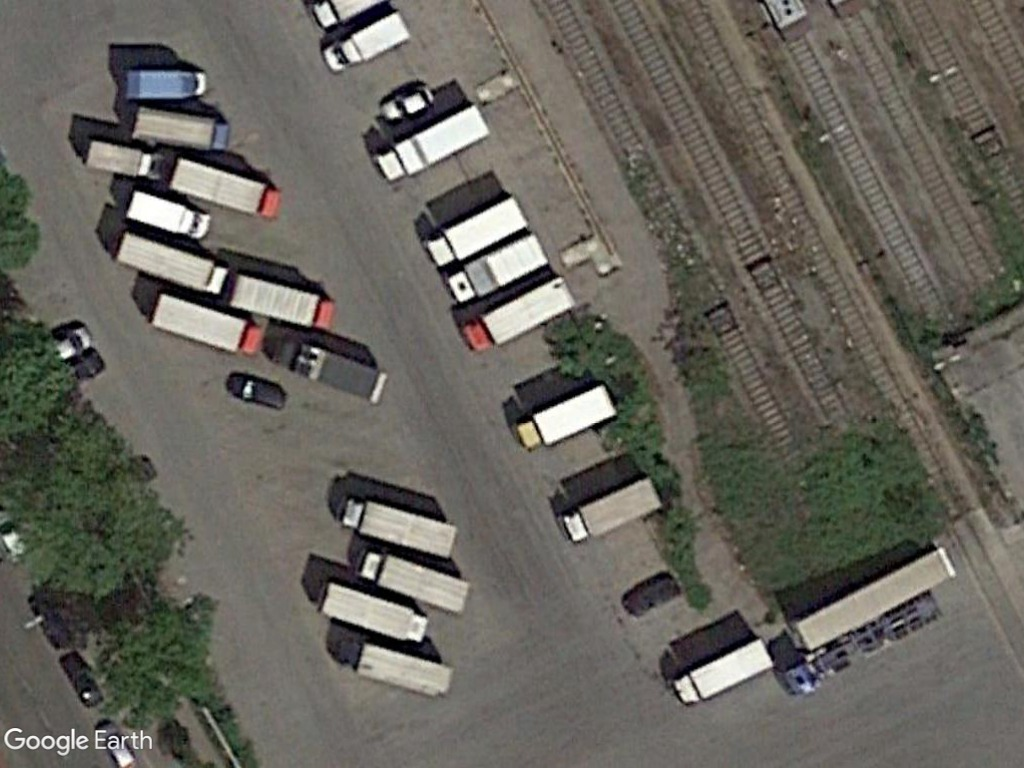car: (221, 363, 294, 415), (374, 81, 440, 133)
truck: (458, 268, 584, 357), (369, 97, 488, 188), (328, 630, 457, 708), (442, 224, 558, 308), (104, 224, 233, 298), (333, 489, 461, 563), (142, 291, 271, 363), (314, 573, 433, 650), (419, 192, 532, 270), (509, 375, 622, 453), (556, 468, 667, 547), (665, 633, 777, 708), (224, 266, 342, 336), (353, 546, 478, 612), (168, 152, 288, 218), (320, 8, 414, 78), (129, 101, 239, 153)
van: (119, 184, 213, 241), (81, 133, 172, 186), (121, 60, 214, 108)
